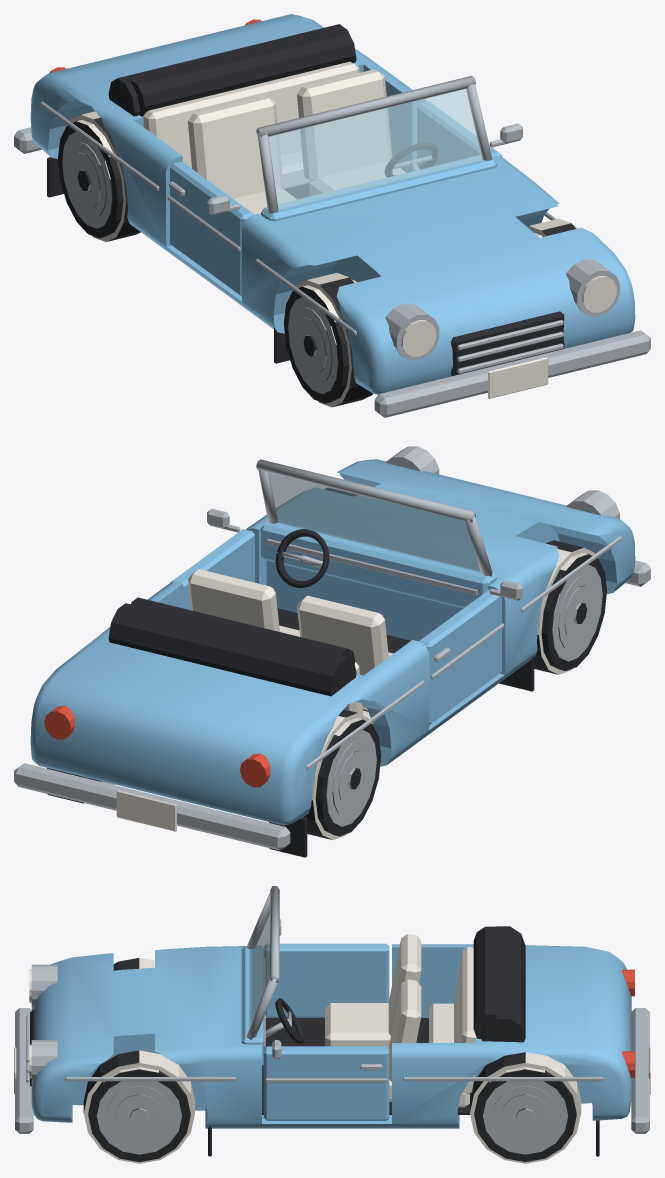
Rendered from baby-blue-convertible.glb.
3 views of the same model, one above another, from view 1: azimuth 30°, elevation 25°; view 2: azimuth 150°, elevation 25°; view 3: azimuth 270°, elevation 25° (orthographic). The views are drawn at different scales.
Visible parts, largest first — view 1: Body, Windshield_Glass, SoftTop_Fold2, Seat_Driver_Back, Wheel_FrontR, Seat_Passenger_Back, Wheel_RearR, Door_R, Bumper_Front, Seat_Rear_Back, Windshield_Frame, Dashboard (+17 smaller); view 2: Body, SoftTop_Fold, Windshield_Glass, Dashboard, Wheel_FrontR, Wheel_RearR, Door_R, Bumper_Rear, Seat_Passenger_Back, Windshield_Frame, Seat_Driver_Back, Door_L (+13 smaller); view 3: Body, Wheel_FrontL, Wheel_RearL, Door_L, Door_R, SoftTop_Fold, Seat_Passenger_Cushion, SoftTop_Fold2, Bumper_Rear, Windshield_Frame, Dashboard, Seat_Rear_Back (+13 smaller).
Part boxes in pixels (bbox=[...]): Body: bbox=[30, 14, 635, 394]; Windshield_Glass: bbox=[268, 88, 483, 209]; SoftTop_Fold2: bbox=[130, 29, 355, 116]; Seat_Driver_Back: bbox=[297, 69, 391, 181]; Wheel_FrontR: bbox=[284, 273, 372, 407]; Seat_Passenger_Back: bbox=[187, 96, 282, 198]; Wheel_RearR: bbox=[58, 111, 140, 241]; Door_R: bbox=[170, 161, 253, 296]; Bumper_Front: bbox=[374, 330, 650, 417]; Seat_Rear_Back: bbox=[143, 61, 359, 168]; Windshield_Frame: bbox=[256, 76, 492, 213]; Dashboard: bbox=[261, 155, 497, 221]; Body: bbox=[30, 459, 635, 825]; SoftTop_Fold: bbox=[108, 603, 356, 696]; Windshield_Glass: bbox=[267, 473, 480, 572]; Dashboard: bbox=[261, 519, 497, 608]; Wheel_FrontR: bbox=[534, 540, 606, 674]; Wheel_RearR: bbox=[303, 709, 380, 839]; Door_R: bbox=[419, 589, 501, 724]; Bumper_Rear: bbox=[14, 763, 290, 850]; Seat_Passenger_Back: bbox=[297, 595, 388, 675]; Windshield_Frame: bbox=[256, 459, 492, 576]; Seat_Driver_Back: bbox=[187, 569, 279, 631]; Door_L: bbox=[170, 529, 254, 610]; Body: bbox=[31, 944, 631, 1128]; Wheel_FrontL: bbox=[83, 1050, 194, 1163]; Wheel_RearL: bbox=[470, 1052, 581, 1163]; Door_L: bbox=[263, 1046, 389, 1120]; Door_R: bbox=[264, 943, 389, 1017]; SoftTop_Fold: bbox=[481, 926, 525, 1057]; Seat_Passenger_Cushion: bbox=[325, 1003, 390, 1047]; SoftTop_Fold2: bbox=[473, 926, 498, 1038]; Bumper_Rear: bbox=[631, 1008, 649, 1133]; Windshield_Frame: bbox=[246, 886, 279, 1039]; Dashboard: bbox=[241, 946, 263, 1065]; Seat_Rear_Back: bbox=[454, 947, 477, 1094].
Size of the model in its own units: 8.35 by 5.36 by 17.16.
